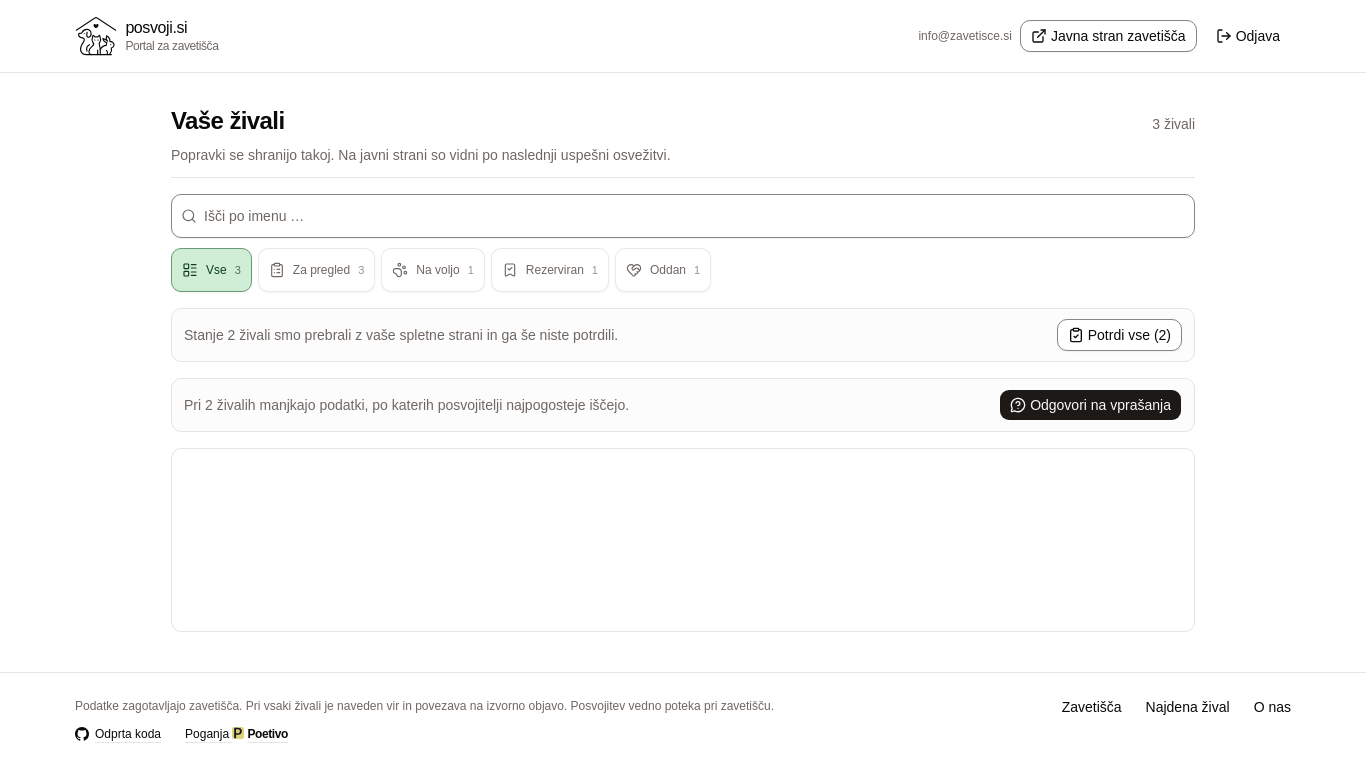
it: a crawled shelter › confirms every crawled status from the banner in one go
Click the button "Potrdi vse (2)".
click(1119, 335)  # box x1=1057 y1=319 x2=1182 y2=351
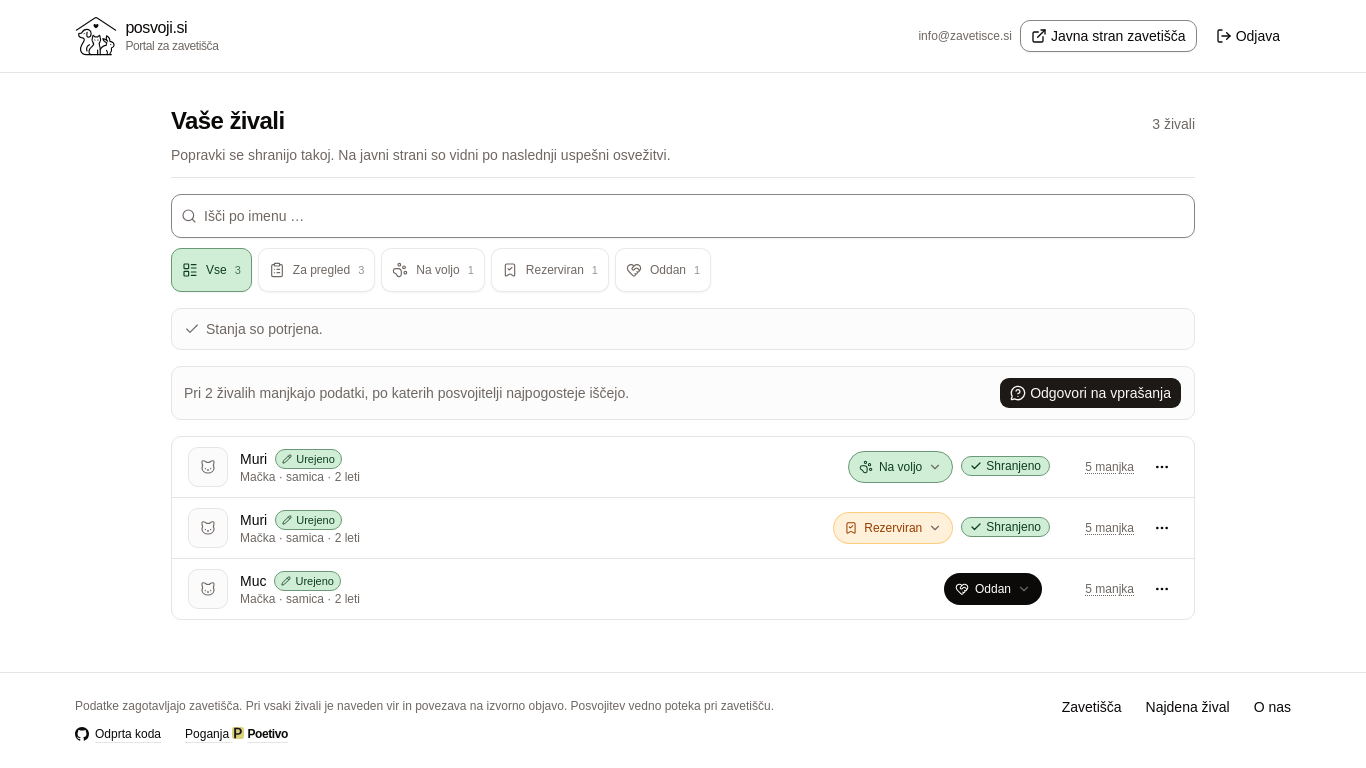
Check: the text "Stanja so potrjena." is shown, box x1=184 y1=321 x2=323 y2=337
